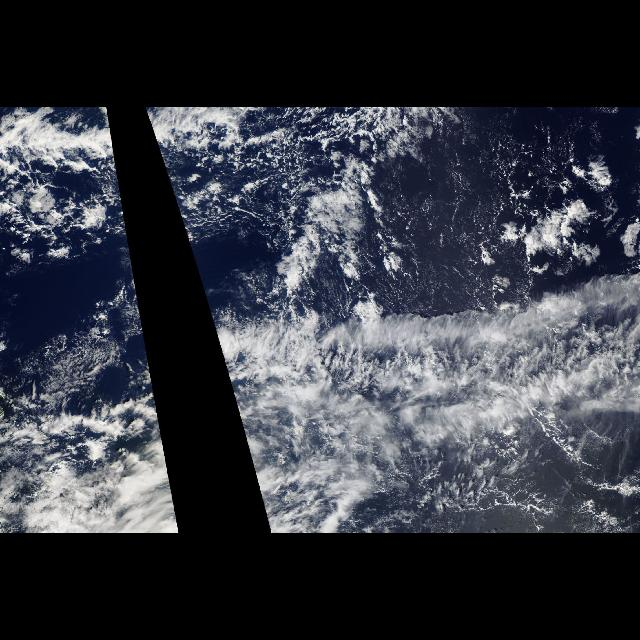Fish: (245, 272, 639, 442)
Gravel: (144, 108, 424, 268), (0, 108, 134, 268)
Sugar: (352, 124, 572, 302)
